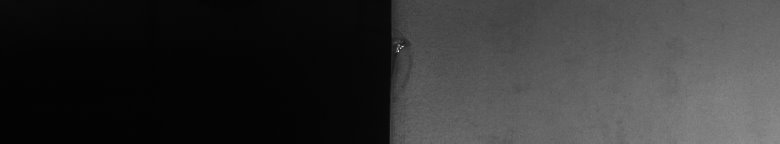hb: (400, 32, 416, 90)
